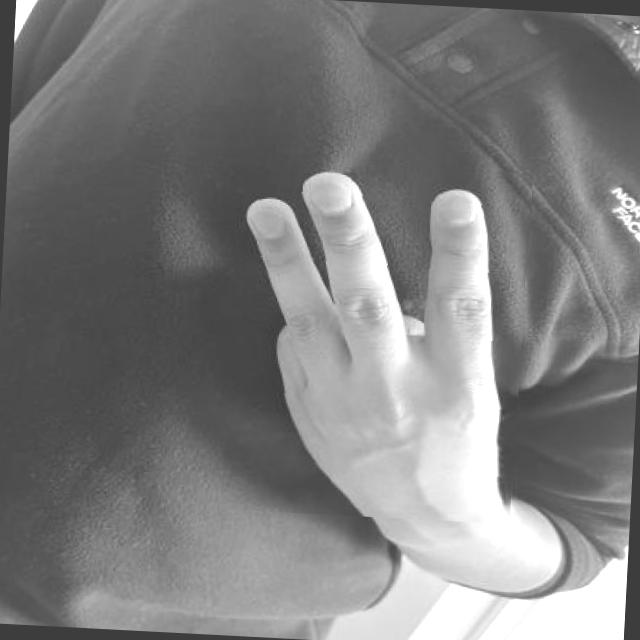W: (221, 152, 533, 524)
